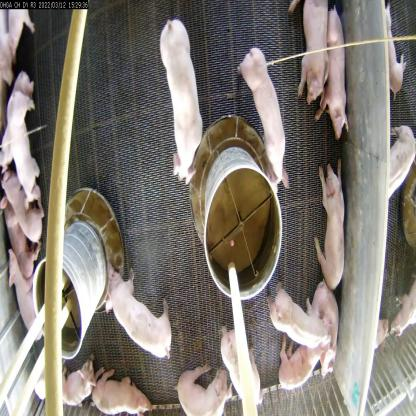Pig: (160, 17, 202, 181), (100, 270, 177, 354), (312, 154, 354, 291), (245, 47, 284, 188), (272, 281, 332, 365), (7, 93, 50, 204), (316, 0, 350, 132), (290, 0, 327, 103), (2, 169, 45, 248), (270, 342, 321, 402), (306, 290, 342, 374), (224, 336, 271, 399), (0, 207, 36, 285), (0, 254, 34, 330), (182, 363, 231, 415), (93, 373, 152, 415), (59, 355, 96, 395)
